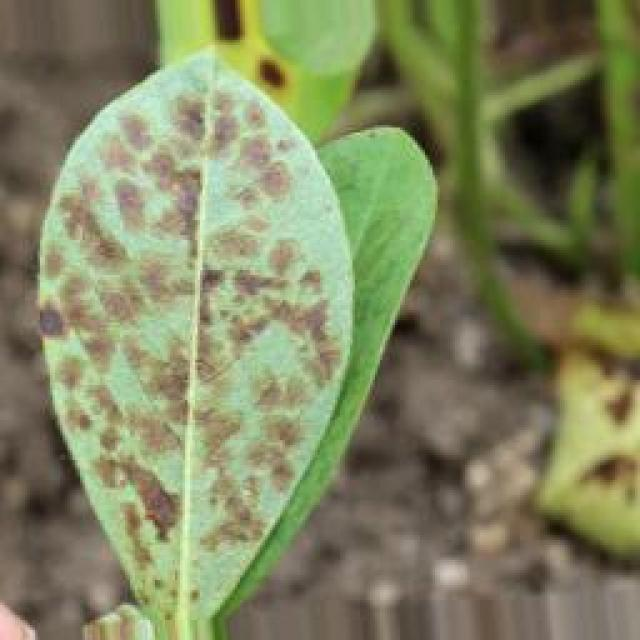Whitefly: (32, 37, 347, 640)
